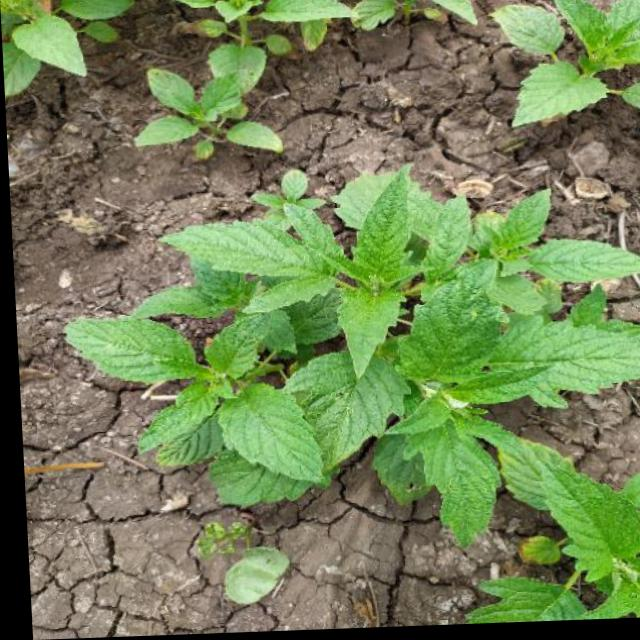crop: (78, 175, 640, 525), (79, 0, 640, 159)
